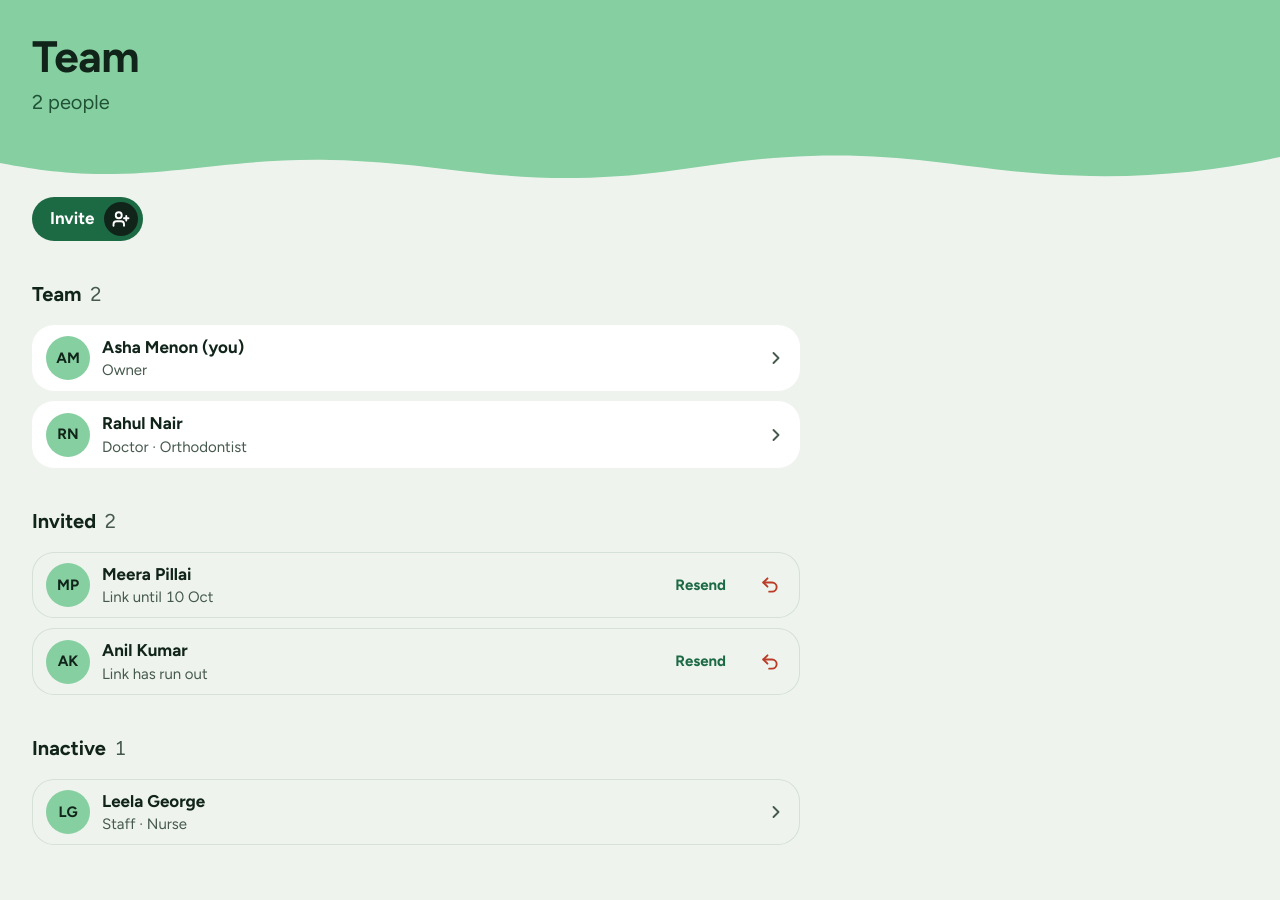
it: Team (plan §8.4, §8.6) › resends an invite, and revokes one asked first
Click the button with aria-label "Resend the invite to Meera Pillai" at (701, 585), box top-left (661, 563), bottom-right (740, 607)
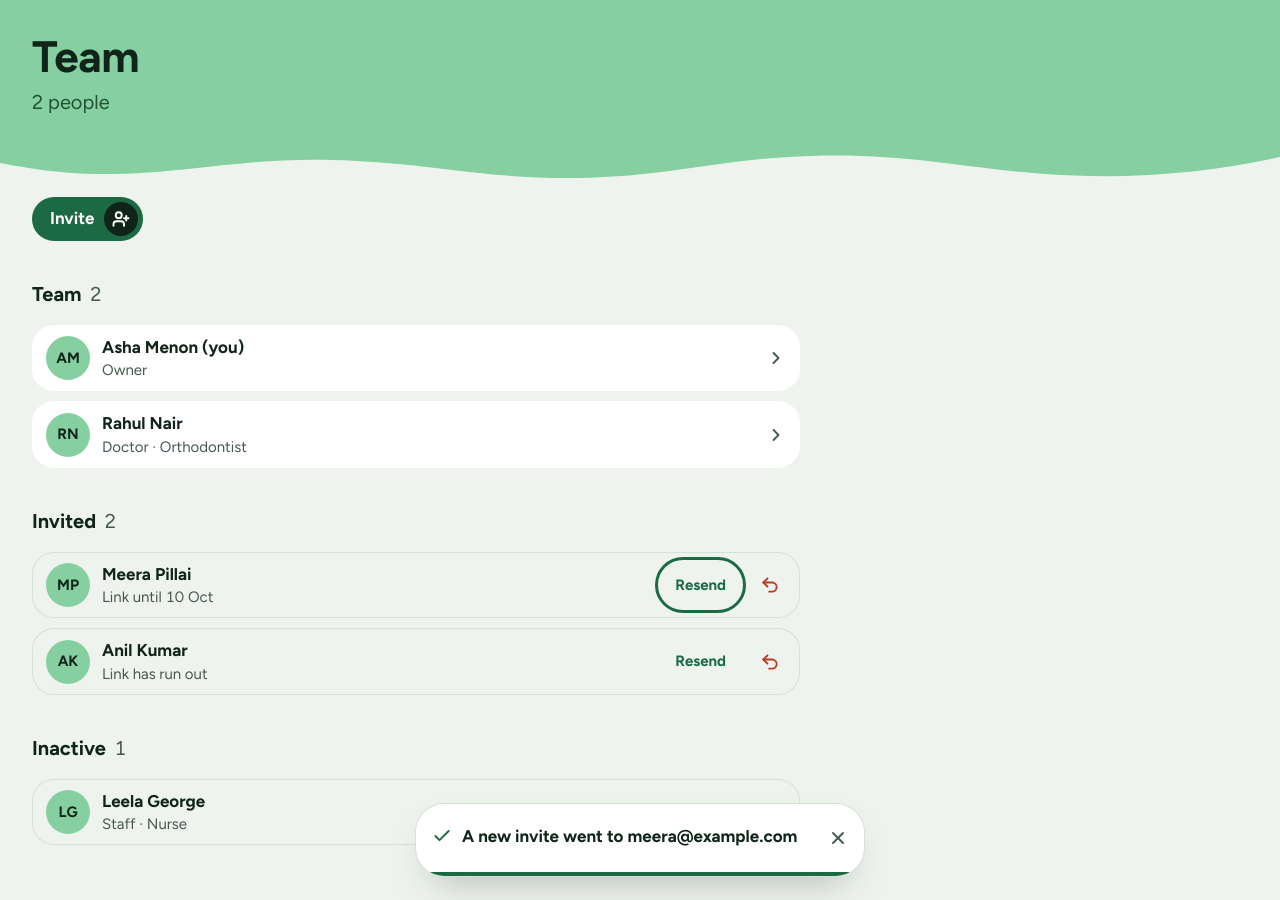
Click the button named "Revoke Anil Kumar’s invite" at (770, 662), box top-left (748, 640), bottom-right (792, 684)
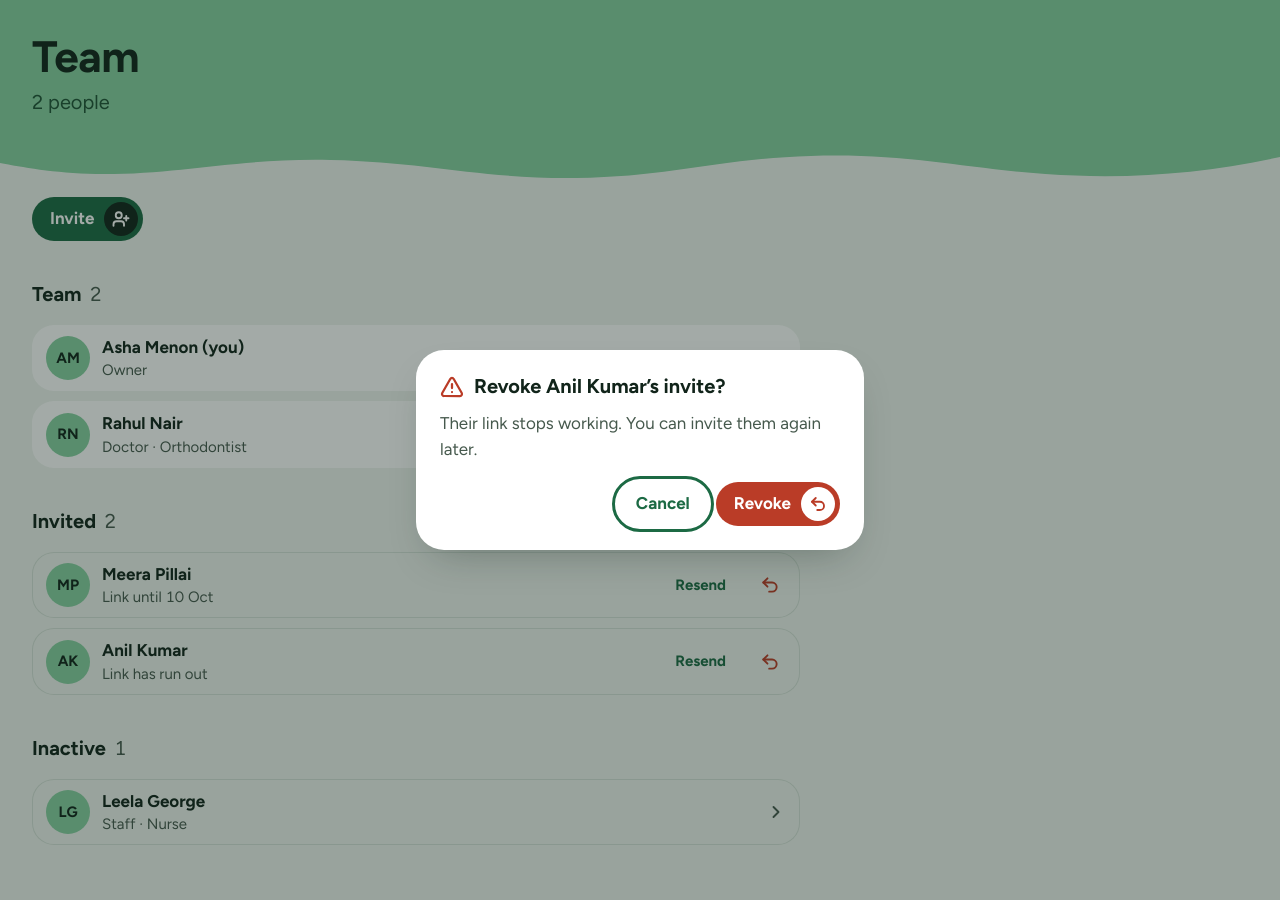
Now the dialog "Revoke Anil Kumar’s invite?" is shown, box top-left (416, 350), bottom-right (864, 550)
